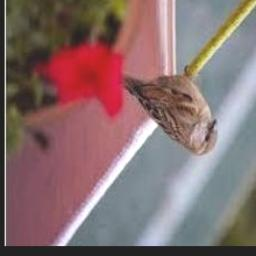Sparrow: (121, 65, 219, 157)
